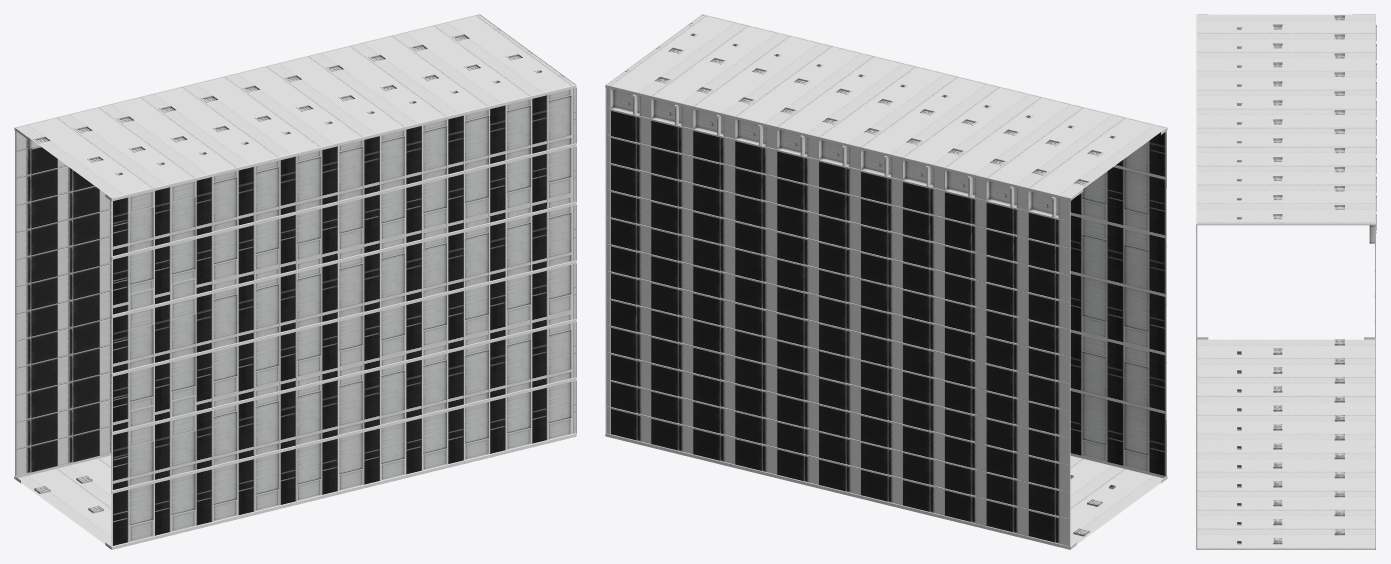
The picture shows the model from 3 angles, left to right: view 1: azimuth 30°, elevation 25°; view 2: azimuth 150°, elevation 25°; view 3: azimuth 270°, elevation 25°; orthographic projection. The views are drawn at different scales.
Parts seen in each view (by area): view 1: S_C_02_01_F.003, S_C_02_01_F.002, S_C_02_01_F.001; view 2: S_C_02_01_F.002, S_C_02_01_F.001, S_C_02_01_F.003; view 3: S_C_02_01_F.001, S_C_02_01_F.002.
Boxes of the visible parts, box(x1,y1,x2,y2) form: S_C_02_01_F.003: box(111, 89, 571, 545); S_C_02_01_F.002: box(14, 14, 576, 549); S_C_02_01_F.001: box(16, 15, 571, 545); S_C_02_01_F.002: box(605, 14, 1167, 549); S_C_02_01_F.001: box(610, 15, 1165, 545); S_C_02_01_F.003: box(1070, 131, 1166, 478); S_C_02_01_F.001: box(1197, 14, 1374, 547); S_C_02_01_F.002: box(1196, 14, 1376, 549).
Bounding box in the file's own units: 42.64 × 15.49 × 30.8.
